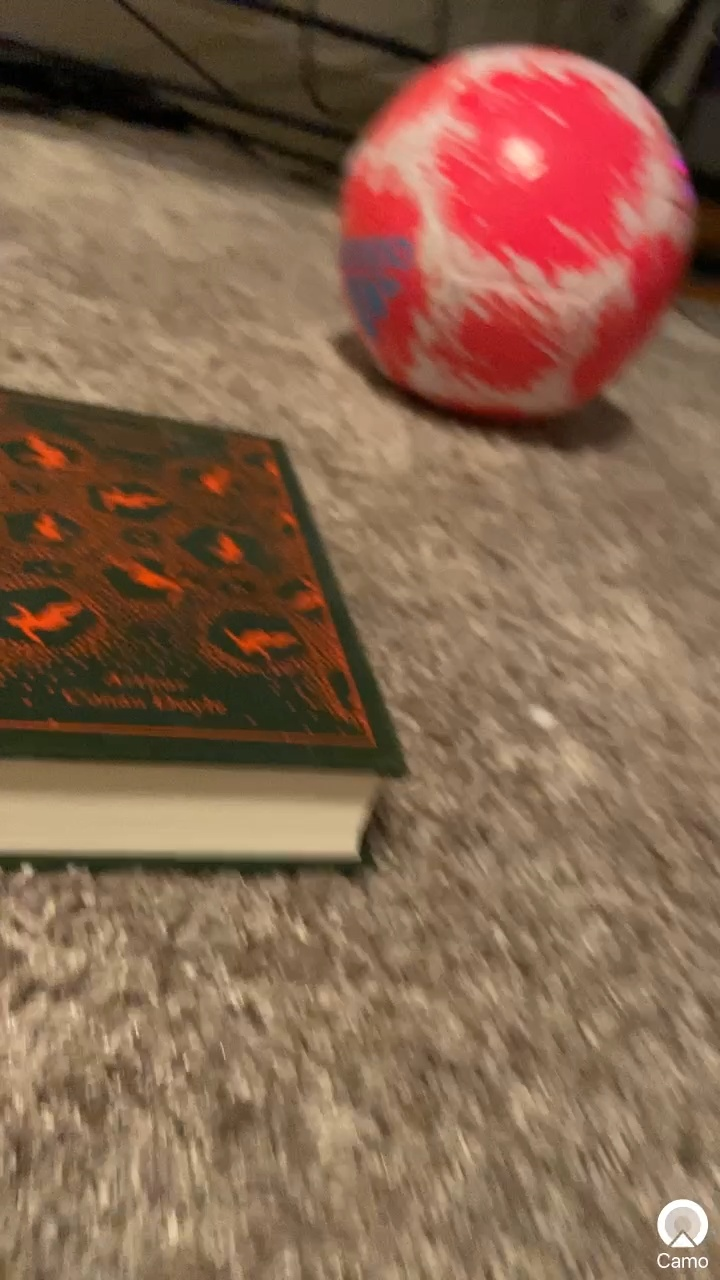Book: (1, 383, 438, 921)
